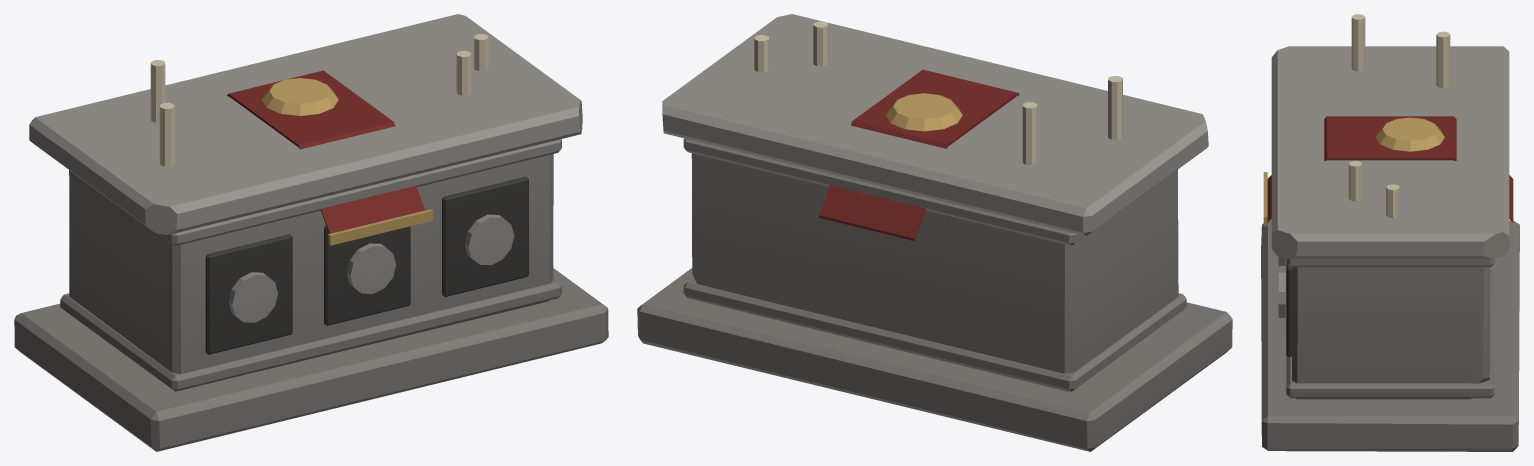
File: altar.glb
The picture shows the model from 3 angles, left to right: view 1: azimuth 30°, elevation 25°; view 2: azimuth 150°, elevation 25°; view 3: azimuth 270°, elevation 25°; orthographic projection. The views are drawn at different scales.
Parts seen in each view (by area): view 1: altar; view 2: altar; view 3: altar.
Part boxes in pixels (x1,y1,x2,y2): altar: (14, 14, 608, 451); altar: (637, 14, 1232, 451); altar: (1261, 14, 1519, 451).
Size of what is drawn, in the model's own units: 2.4 by 1.48 by 1.31.
